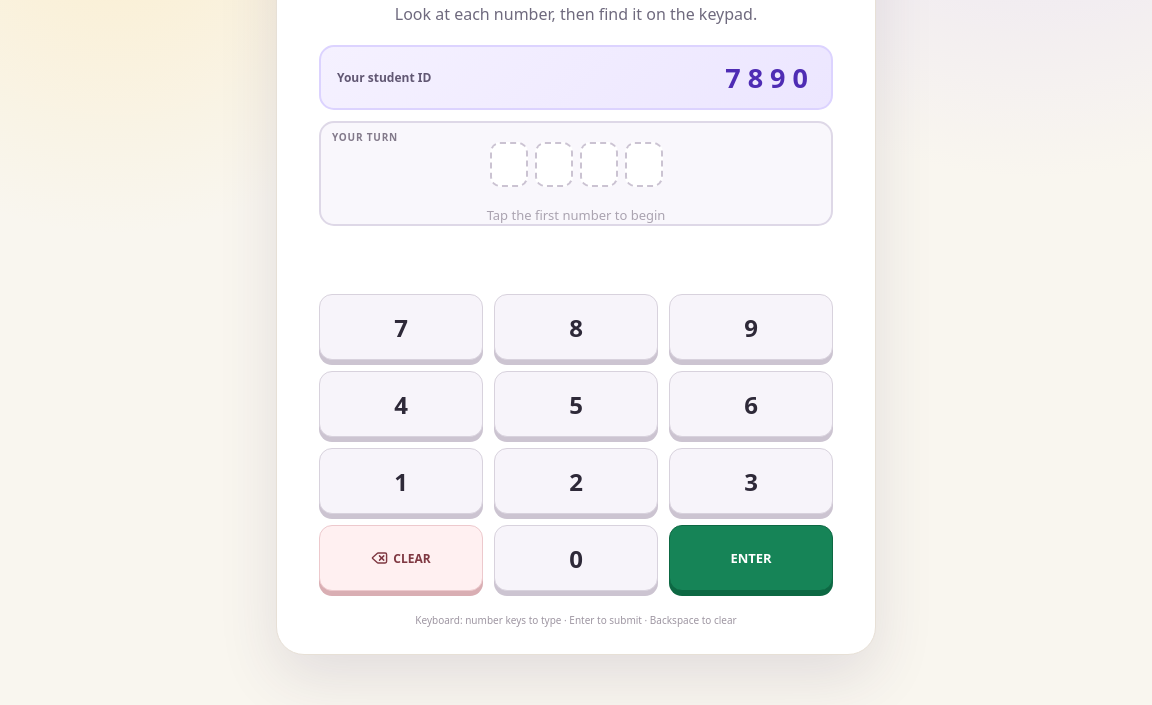
Student ID game mechanics › marks a wrong digit and highlights CLEAR
(page scrolled)
Click the button named "Number 1" at (401, 481), box [319, 448, 483, 514]
(page scrolled)
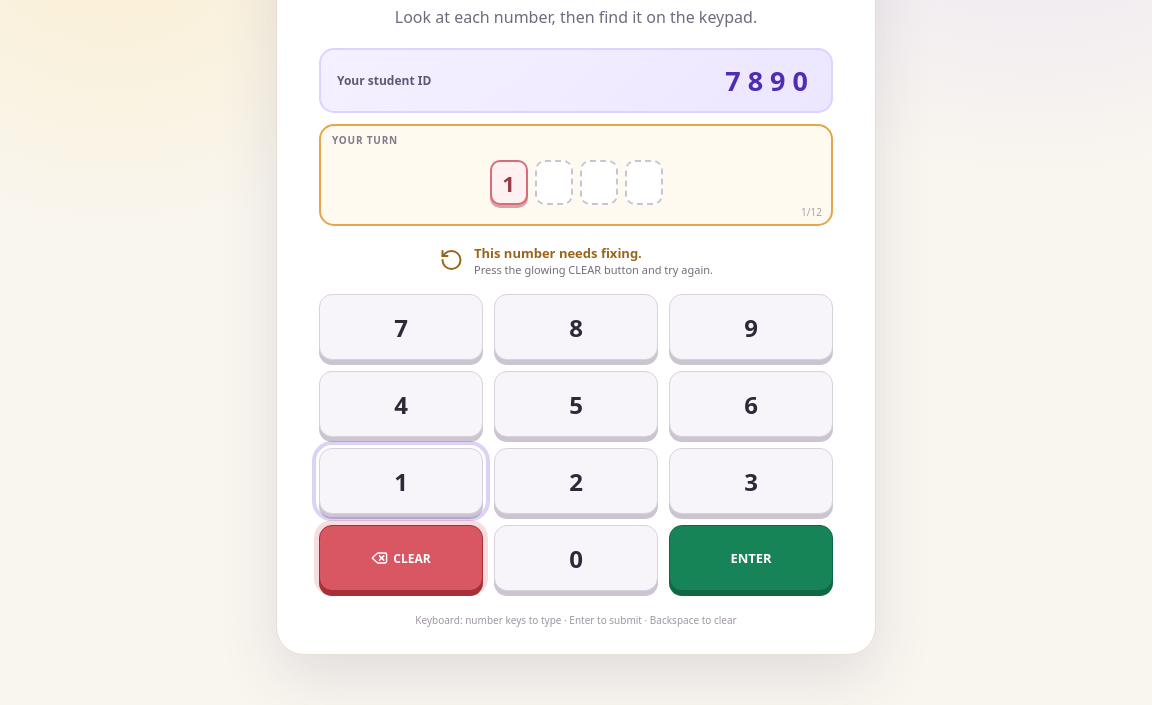
Now the text "This number needs fixing." is shown, box [474, 244, 642, 262]
